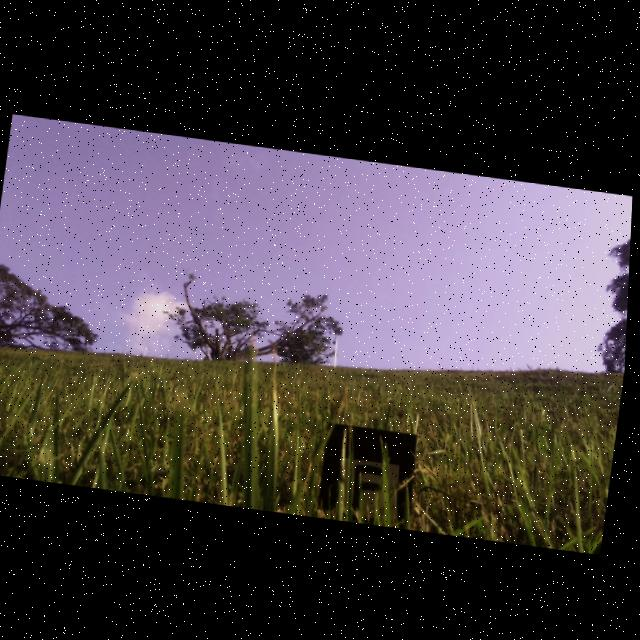F: (358, 461, 392, 507)
